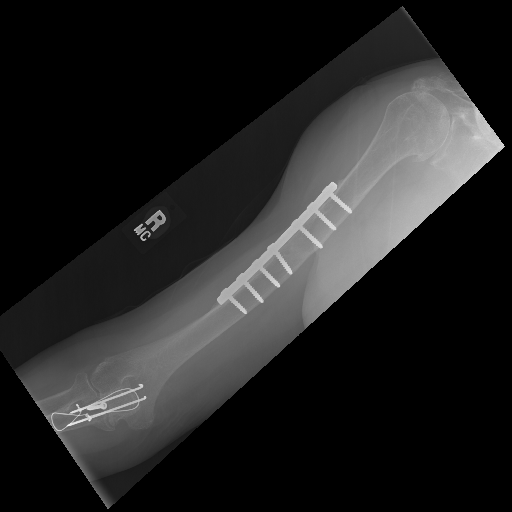implant: (215, 184, 351, 315), (219, 233, 291, 315), (295, 177, 355, 247)
